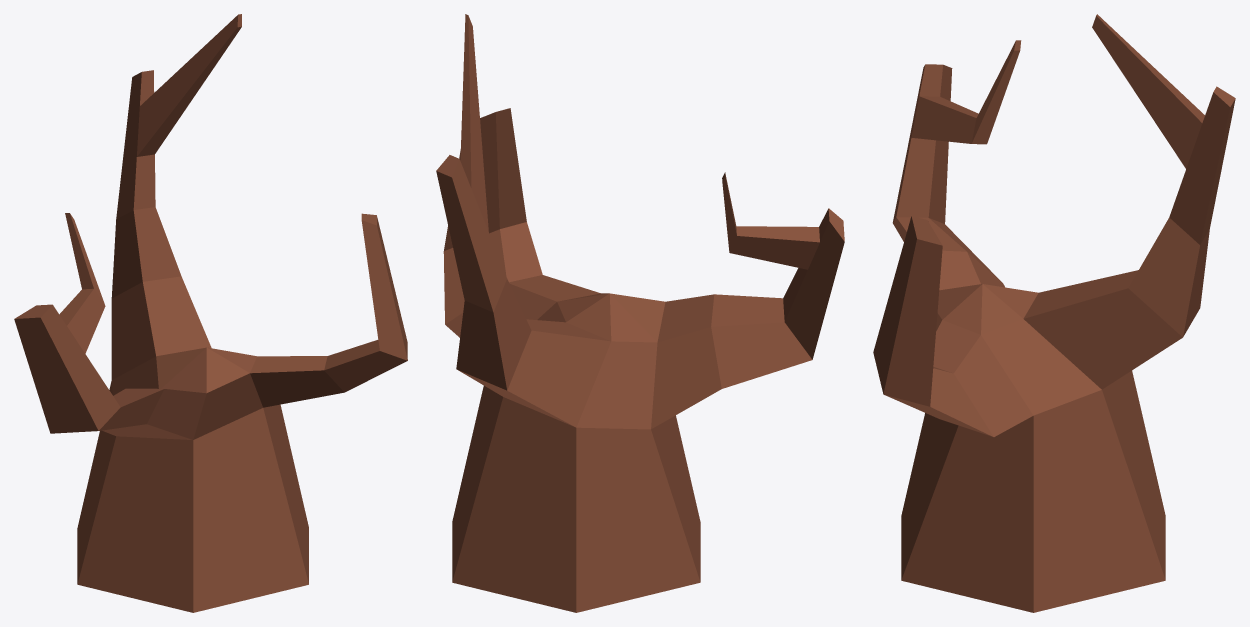
File: bush_2_spring_mat.fbx
3 renders of one model, left to right at view 1: azimuth 30°, elevation 25°; view 2: azimuth 150°, elevation 25°; view 3: azimuth 270°, elevation 25°, orthographic. The views are drawn at different scales.
Parts seen in each view (by area): view 1: bush_2_spring_mat; view 2: bush_2_spring_mat; view 3: bush_2_spring_mat.
Part boxes in pixels (bbox=[...]): bush_2_spring_mat: bbox=[14, 14, 407, 612]; bush_2_spring_mat: bbox=[436, 14, 844, 612]; bush_2_spring_mat: bbox=[873, 14, 1235, 612].
Bounding box in the file's own units: 0.9409 × 1.18 × 0.6742.
